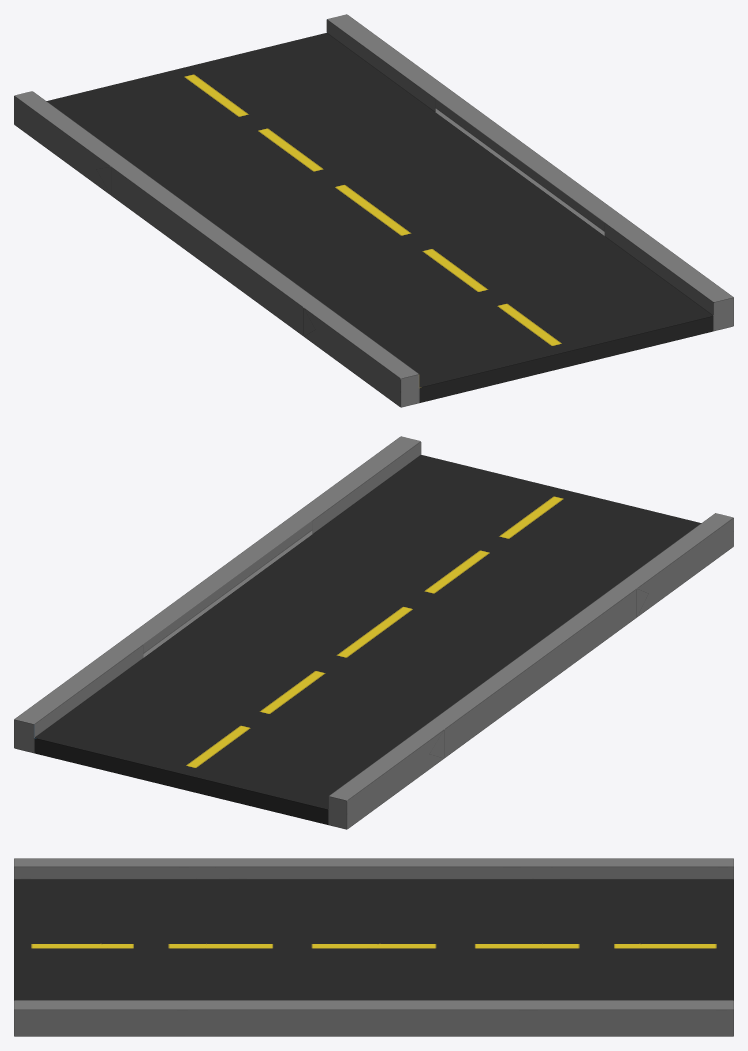
The model's file is road.obj.
3 views of the same model, one above another, from view 1: azimuth 30°, elevation 25°; view 2: azimuth 150°, elevation 25°; view 3: azimuth 270°, elevation 25° (orthographic). The views are drawn at different scales.
Visible parts, largest first — view 1: cuboid; view 2: cuboid; view 3: cuboid.
Part boxes in pixels (x1,y1,x2,y2): cuboid: [14, 14, 733, 407]; cuboid: [14, 436, 733, 829]; cuboid: [14, 858, 733, 1036].
Size of the model in its own units: 11.25 by 0.9375 by 22.62.
Materials: 1 (1 with a texture image).
